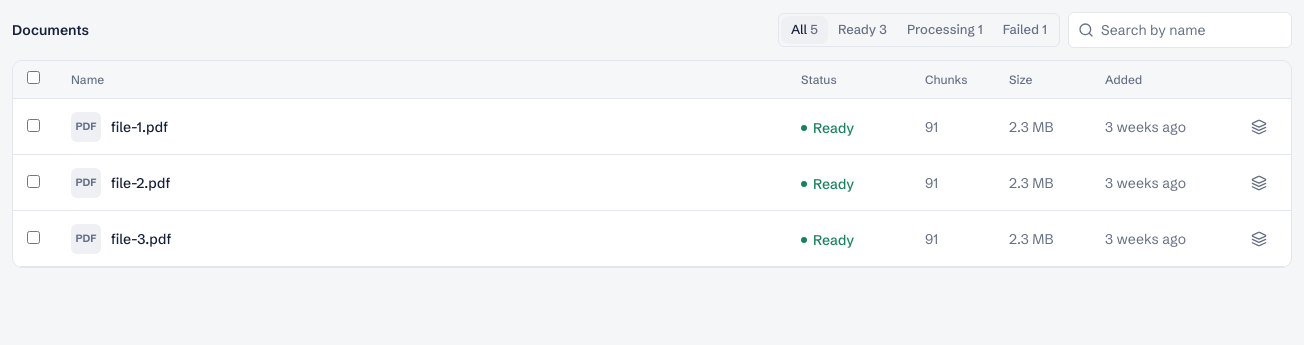
DocumentsTable › selects every loaded document at once and clears the selection
Click the checkbox named "Select all loaded documents".
click(34, 78)  # box [27,71,40,84]
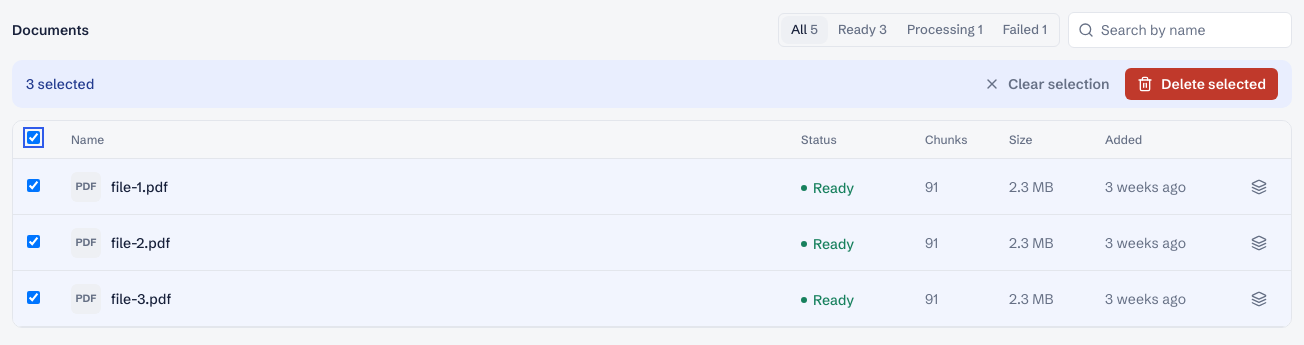
Expected: the text "3 selected" is shown, [26,74,94,94]
Click the button "Clear selection".
click(1047, 84)  # box [972,68,1121,100]
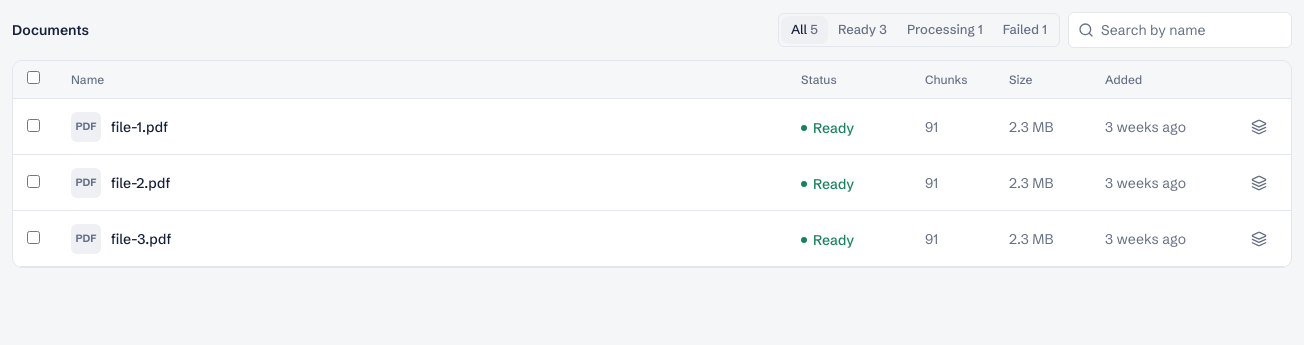
Expected: the text "selected" is gone
